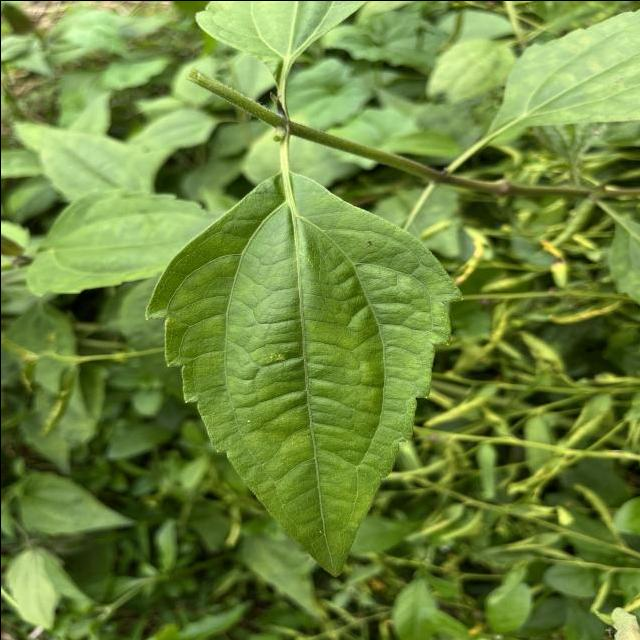Chromolaena odorata: (136, 163, 470, 578)
